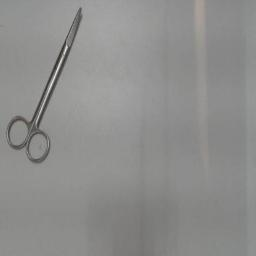Curved Mayo Scissors: (4, 4, 84, 168)
